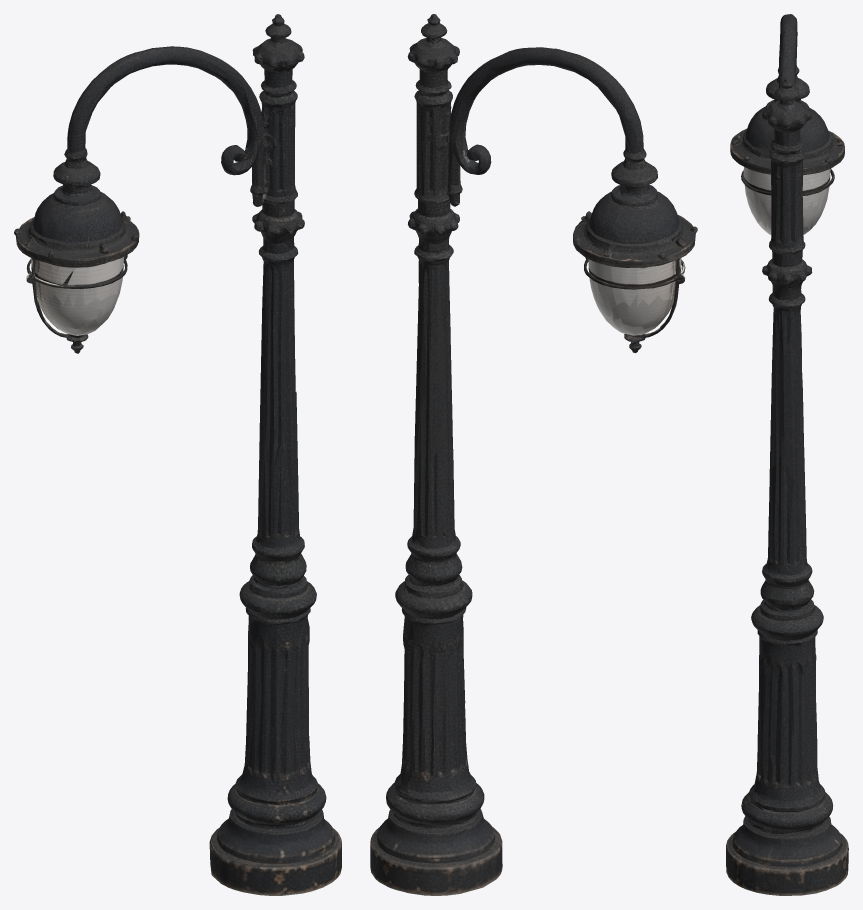
Rendered from street-lamp.glb.
3 views of the same model, side by side, from view 1: azimuth 30°, elevation 25°; view 2: azimuth 150°, elevation 25°; view 3: azimuth 270°, elevation 25° (orthographic). The views are drawn at different scales.
Parts seen in each view (by area): view 1: Mesh_0; view 2: Mesh_0; view 3: Mesh_0.
Part boxes in pixels (x1,y1,x2,y2): Mesh_0: (14, 14, 341, 895); Mesh_0: (370, 14, 697, 895); Mesh_0: (726, 14, 848, 895).
Bounding box in the file's own units: 0.7199 × 1.9 × 0.2668.
Materials: 1 (1 with a texture image).
